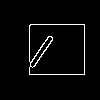I: (25, 25, 63, 70)
